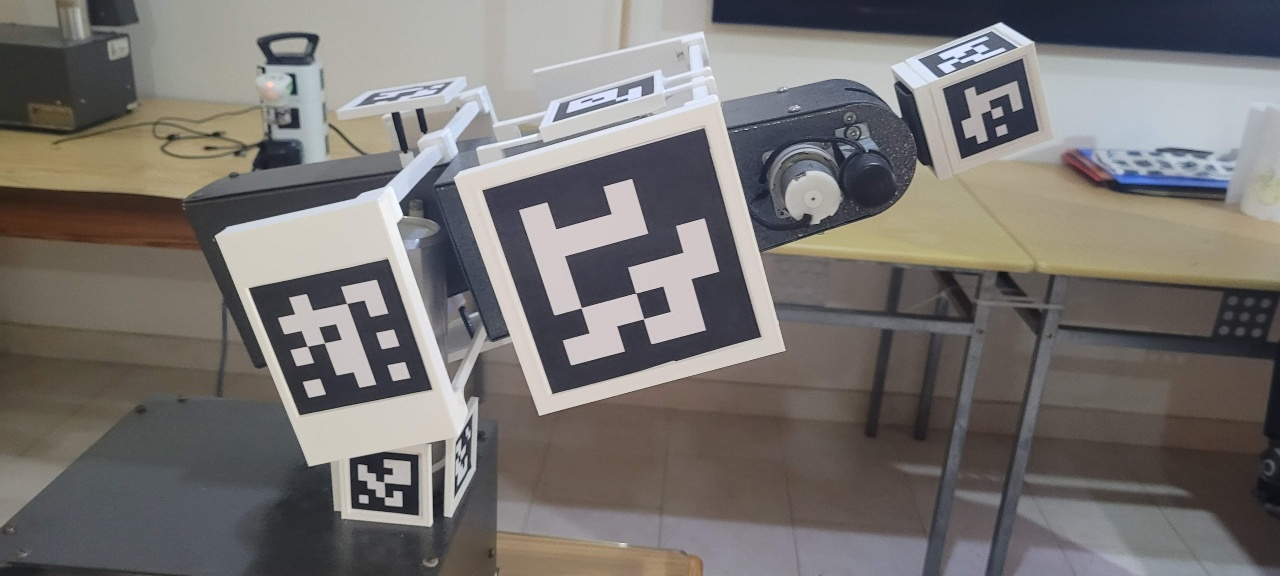Robot: (179, 20, 1059, 528)
